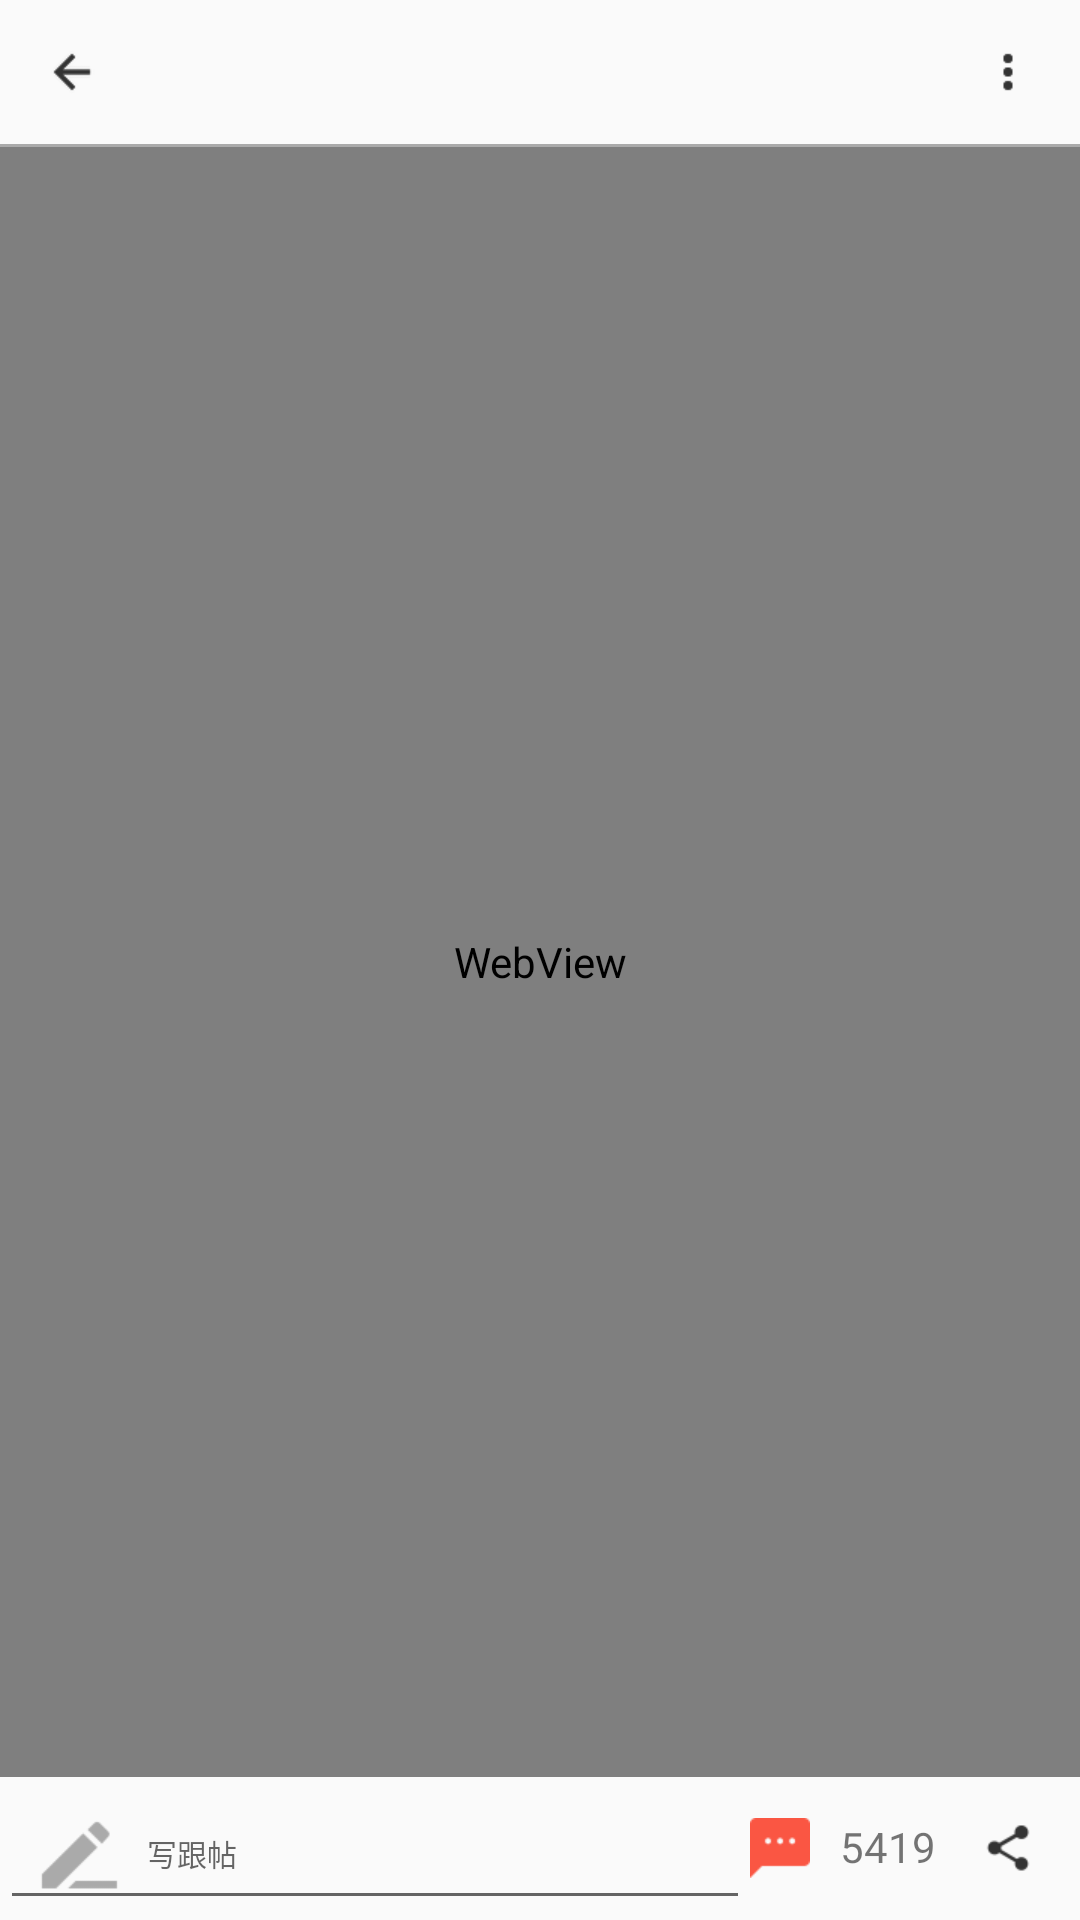

Screen size 1080px x 1920px. Icon name, then its center in pixels as [x,y]:
news article share: [1008,1848]
news title back: [72,72]
news title menu: [1008,72]
